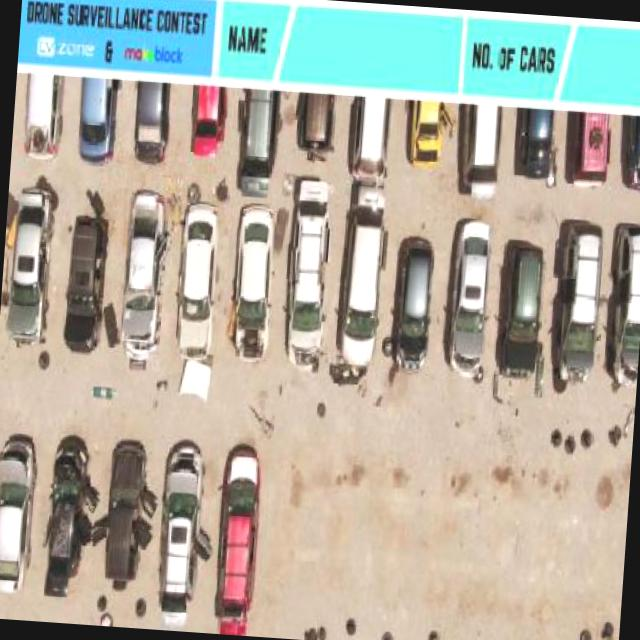car: (211, 442, 268, 636), (334, 182, 390, 376), (278, 178, 334, 368), (2, 183, 58, 350), (118, 188, 172, 360), (170, 199, 227, 361), (554, 218, 608, 388), (226, 199, 282, 360), (446, 217, 498, 379), (157, 438, 206, 604), (39, 427, 89, 577), (58, 208, 108, 353), (390, 232, 440, 374), (502, 238, 550, 380), (100, 434, 148, 575), (0, 429, 37, 575), (231, 86, 280, 195), (458, 104, 508, 206), (610, 218, 640, 384), (74, 76, 119, 166), (18, 72, 63, 162), (347, 96, 392, 182), (562, 111, 612, 188), (130, 82, 174, 166), (514, 108, 560, 184), (189, 80, 232, 152), (405, 100, 449, 170), (292, 90, 336, 154), (621, 116, 640, 193)
